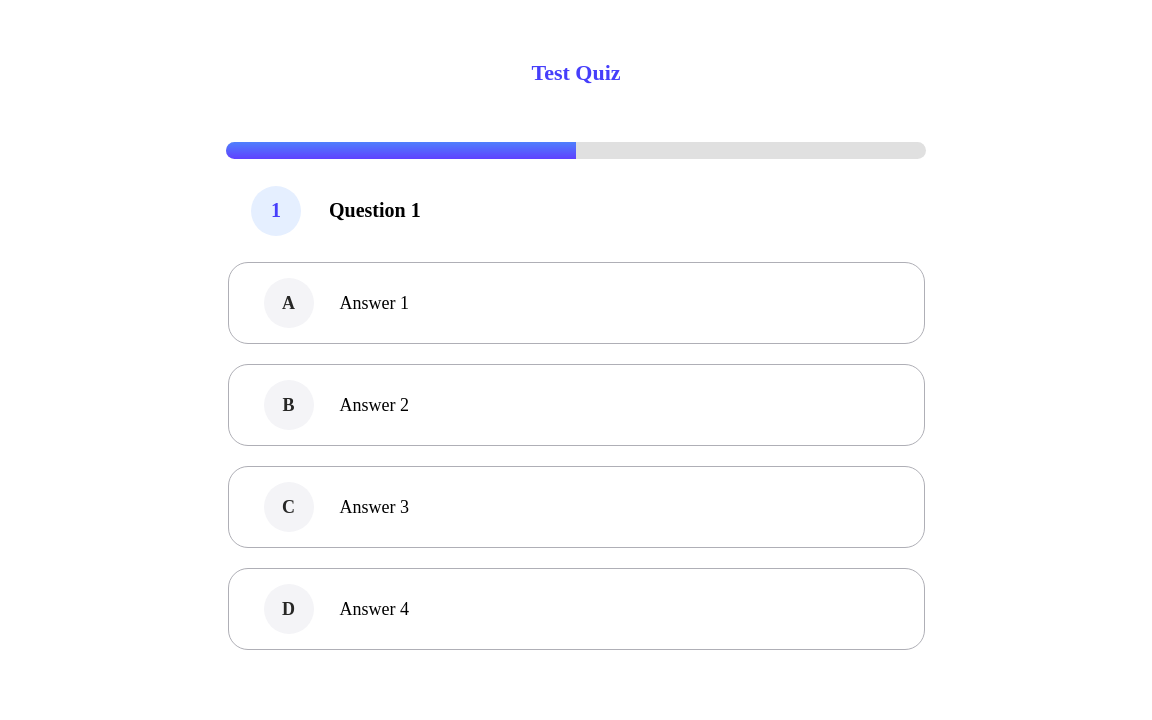
Test: QuizModal › updates state correctly when an answer is clicked
Click the text "Answer 1" at {"x": 576, "y": 303}, box [228,262,924,344]
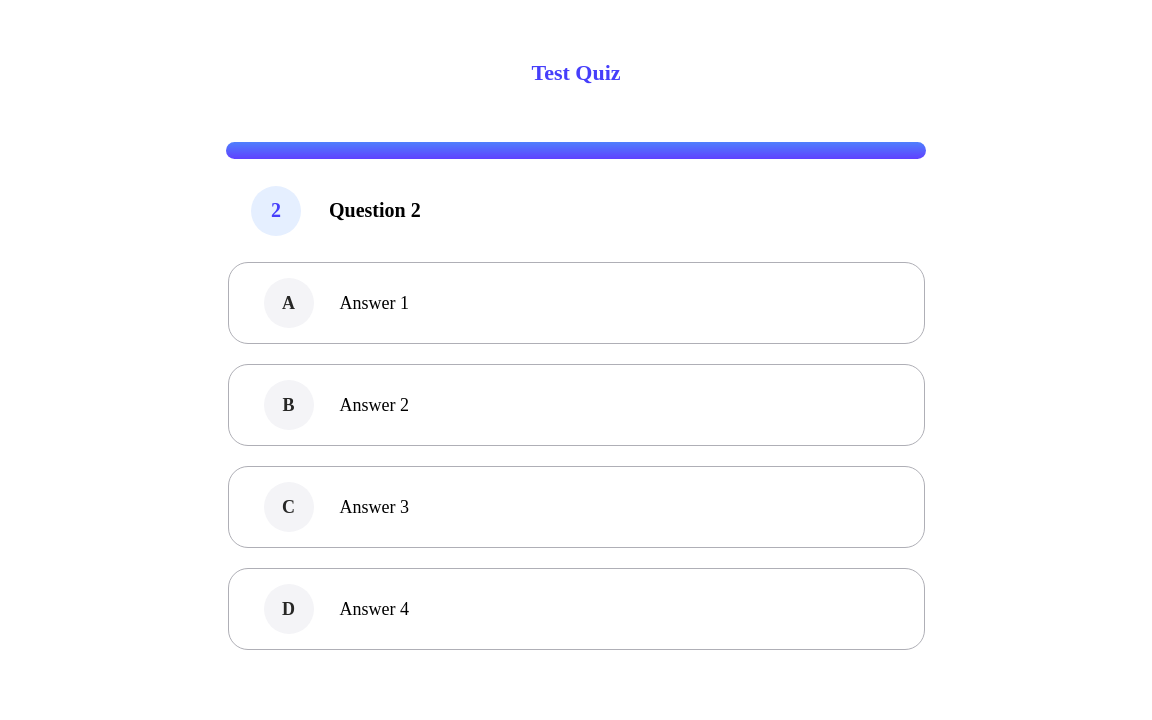
Expected: the text "Question 2" is shown, [329,199,421,222]
Click the text "Answer 2" at {"x": 576, "y": 405}, box [228,364,924,446]
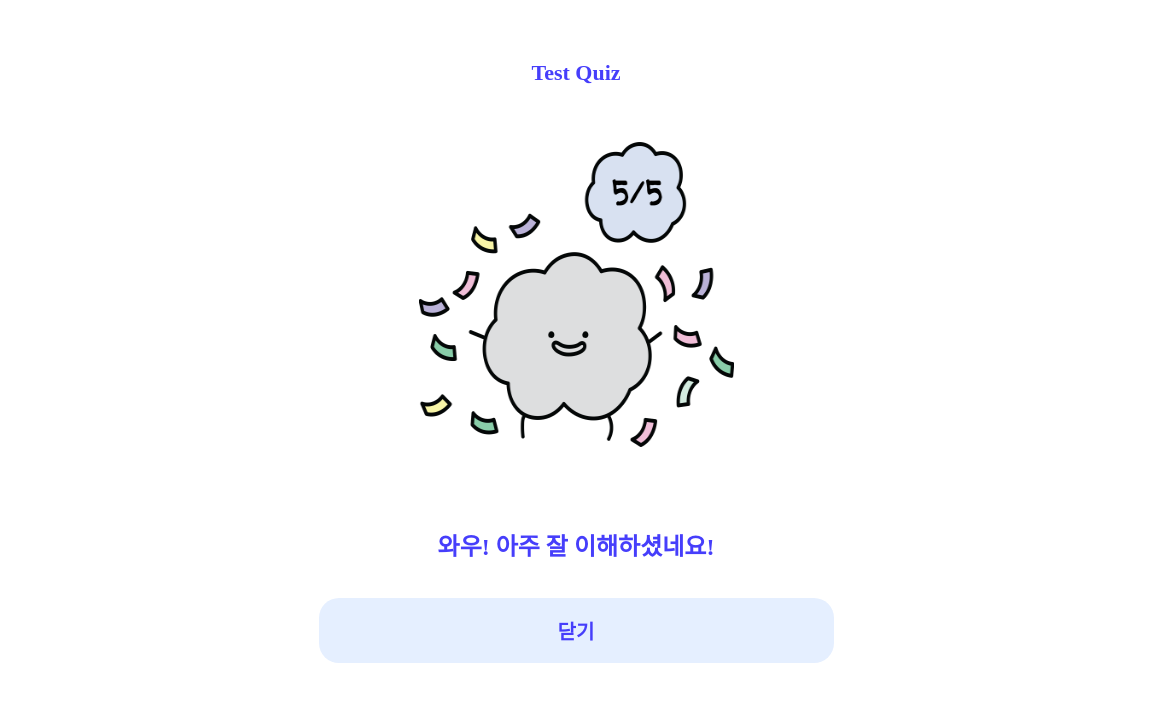
Expected: the text "와우! 아주 잘 이해하셨네요!" is shown, [438,527,714,562]
